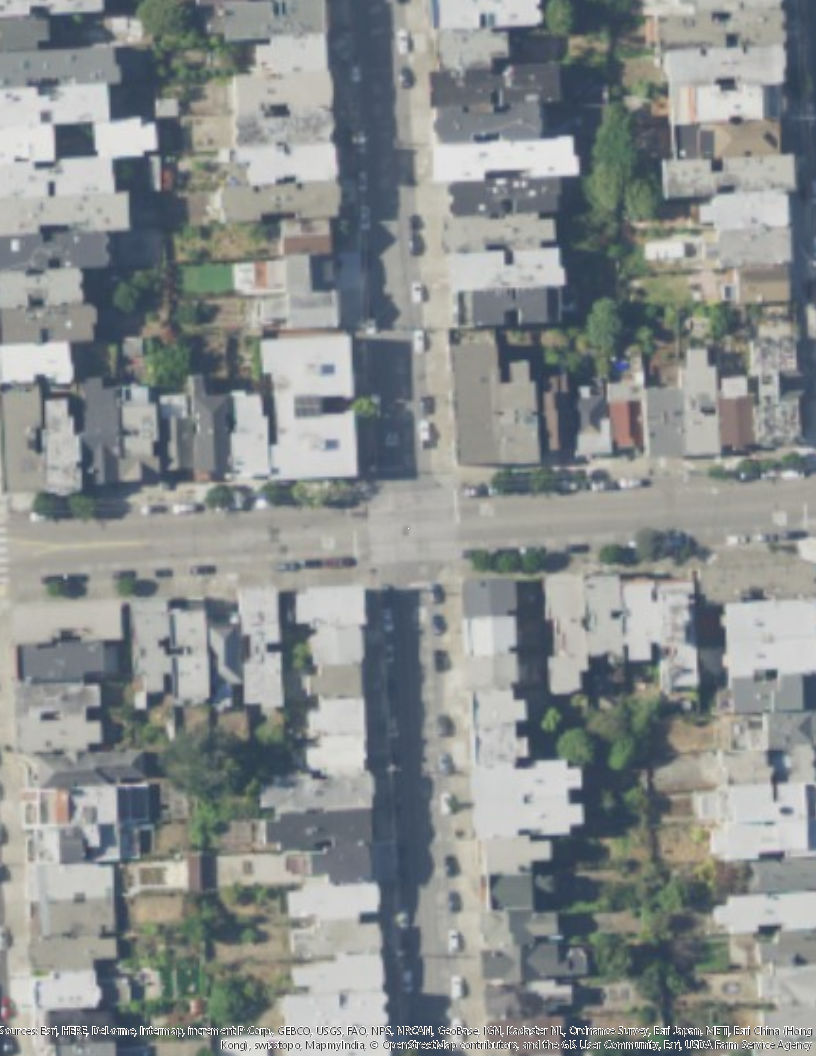zebracross: (1, 516, 10, 582)
